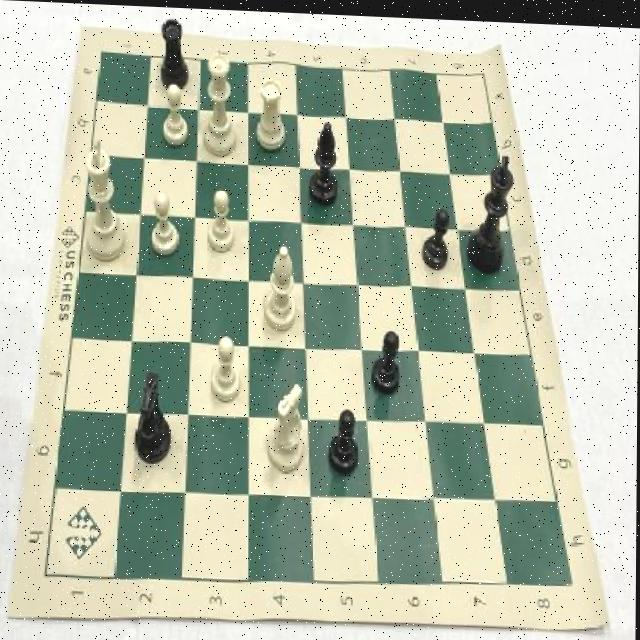bishop: (307, 114, 343, 211)
black-bishop: (466, 142, 522, 278)
black-king: (130, 366, 176, 472)
black-knight: (325, 399, 364, 477), (370, 318, 404, 397), (420, 201, 454, 271)
black-queen: (153, 13, 193, 93)
black-rook: (261, 237, 299, 337)
white-bishop: (80, 134, 131, 267)
white-king: (265, 371, 308, 478)
white-knight: (208, 328, 246, 406), (206, 181, 241, 258), (148, 185, 184, 259), (161, 78, 192, 150)
white-pawn: (199, 42, 243, 159)
white-queen: (253, 69, 291, 156)
